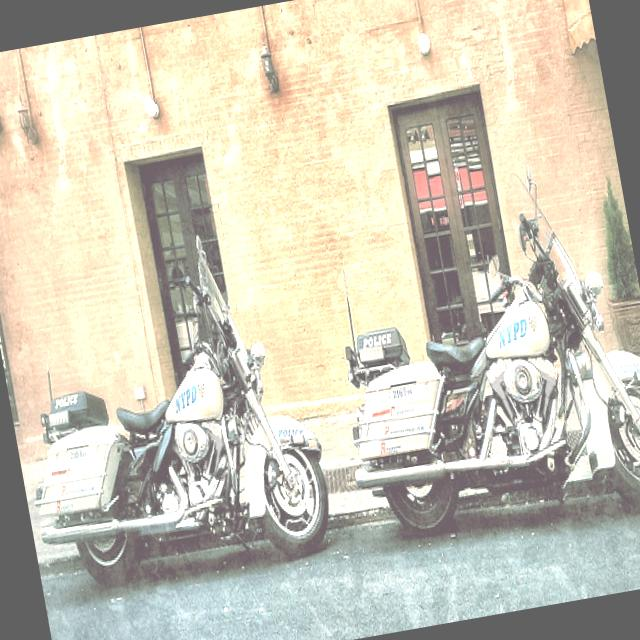Vehicle: (309, 161, 640, 547), (1, 232, 335, 592)
